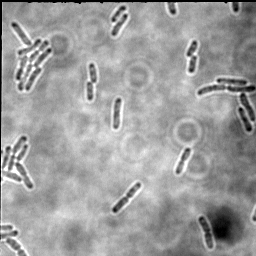Dividing: (110, 181, 143, 215), (196, 84, 256, 97), (197, 213, 216, 251), (239, 92, 256, 122), (174, 147, 192, 175)
Microcolony: (10, 21, 54, 93), (1, 135, 35, 191)
Rod: (109, 12, 130, 38), (236, 106, 254, 134), (111, 96, 123, 131), (110, 4, 128, 24), (216, 77, 248, 87), (184, 39, 199, 58), (86, 62, 99, 83), (186, 54, 198, 75), (85, 81, 96, 102)
